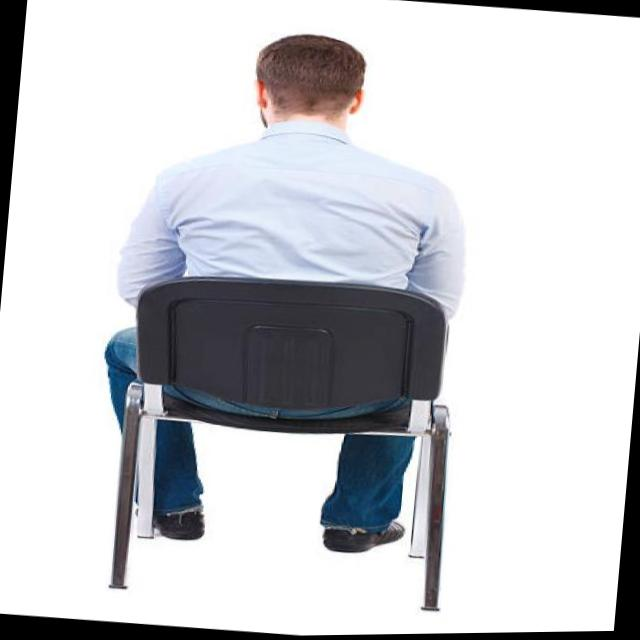no helmet: (246, 26, 370, 132)
